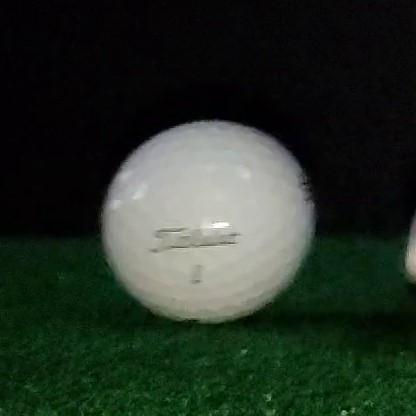golfball: (101, 121, 316, 324)
